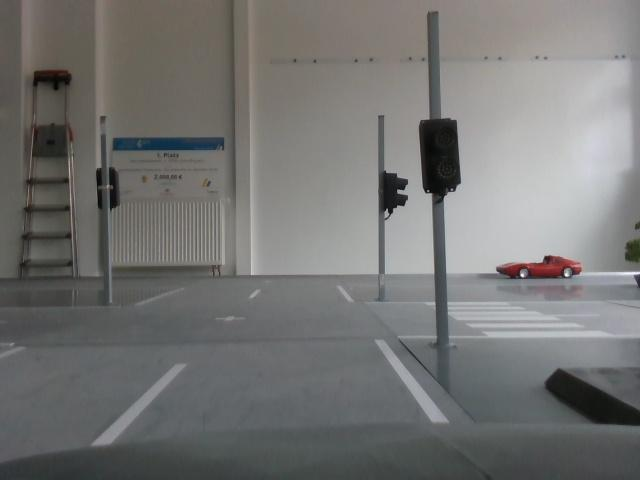car: (495, 244, 586, 287)
traffic light: (422, 115, 462, 196), (373, 168, 416, 219)
